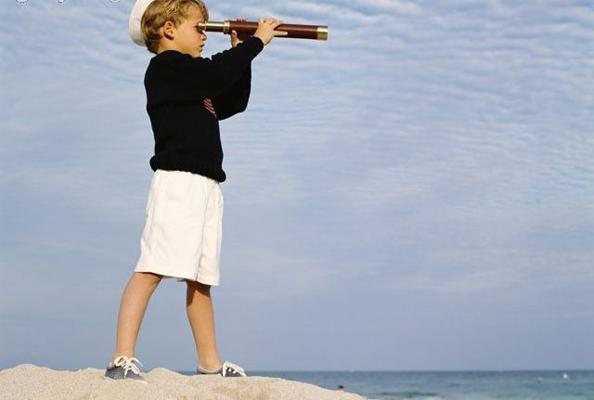person: (105, 2, 290, 386)
